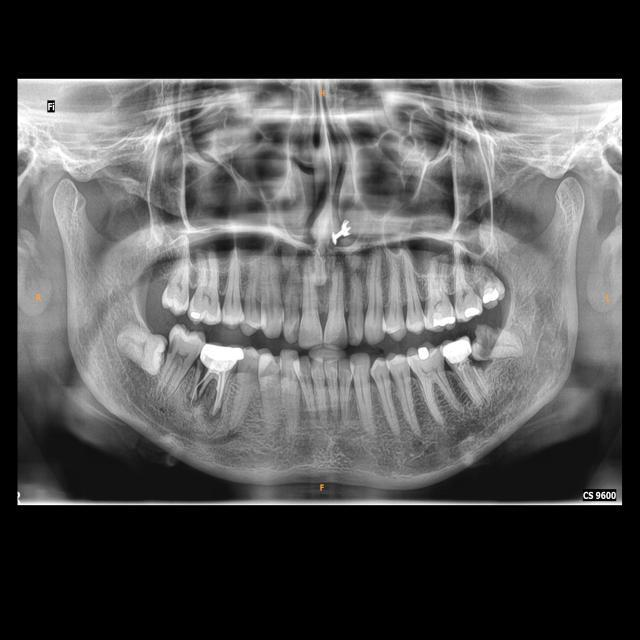dentin-curugu: (475, 325, 501, 358), (166, 339, 178, 358)
dolgu: (431, 309, 457, 330), (481, 285, 501, 312), (414, 344, 434, 364), (461, 303, 483, 320), (185, 308, 208, 322)
kanal-tedavisi: (191, 366, 227, 408), (456, 364, 488, 400)
kaplama: (198, 338, 240, 374), (444, 340, 474, 365)
